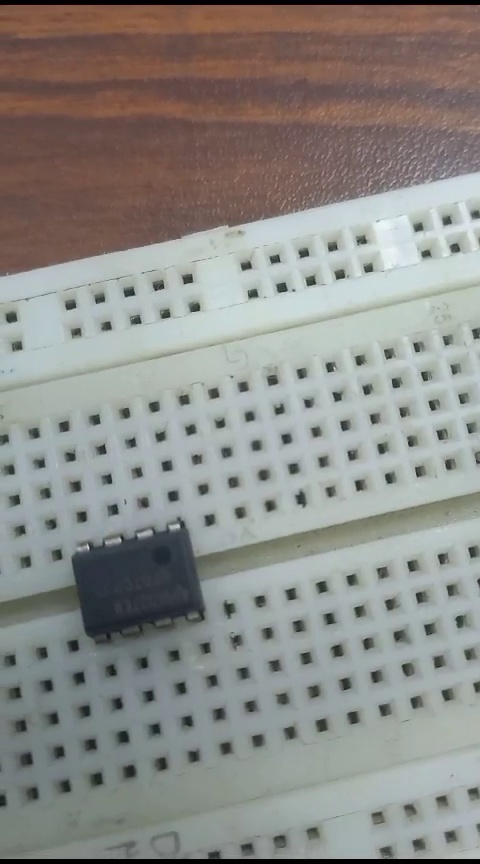IC: (70, 525, 214, 640)
